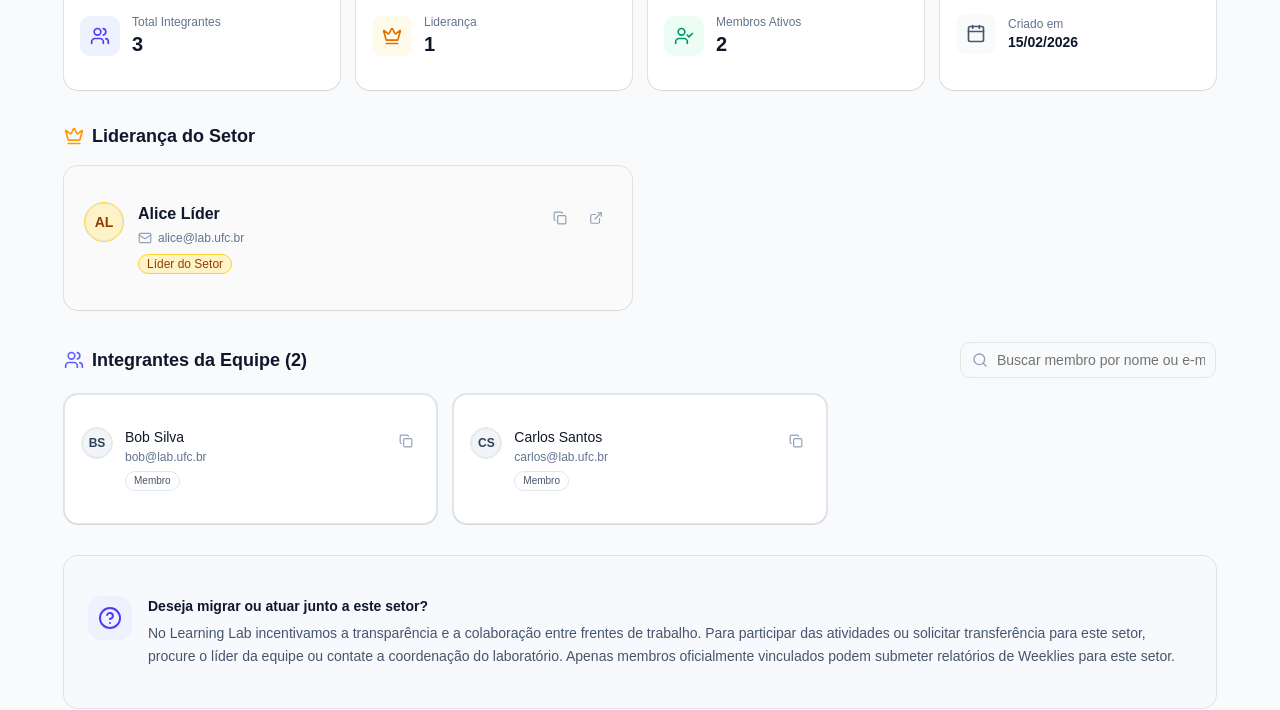
Test: SectorDetailPage › permite buscar integrantes por nome ou e-mail
The image size is (1280, 710).
(page scrolled)
Expected: the text "Bob Silva" is shown, [125, 427, 184, 447]
Note: Filtra por "Carlos"
Type "carlos" into the field with placeholder "Buscar membro por nome ou e-mail..." at (1088,360), box [960, 342, 1216, 378]
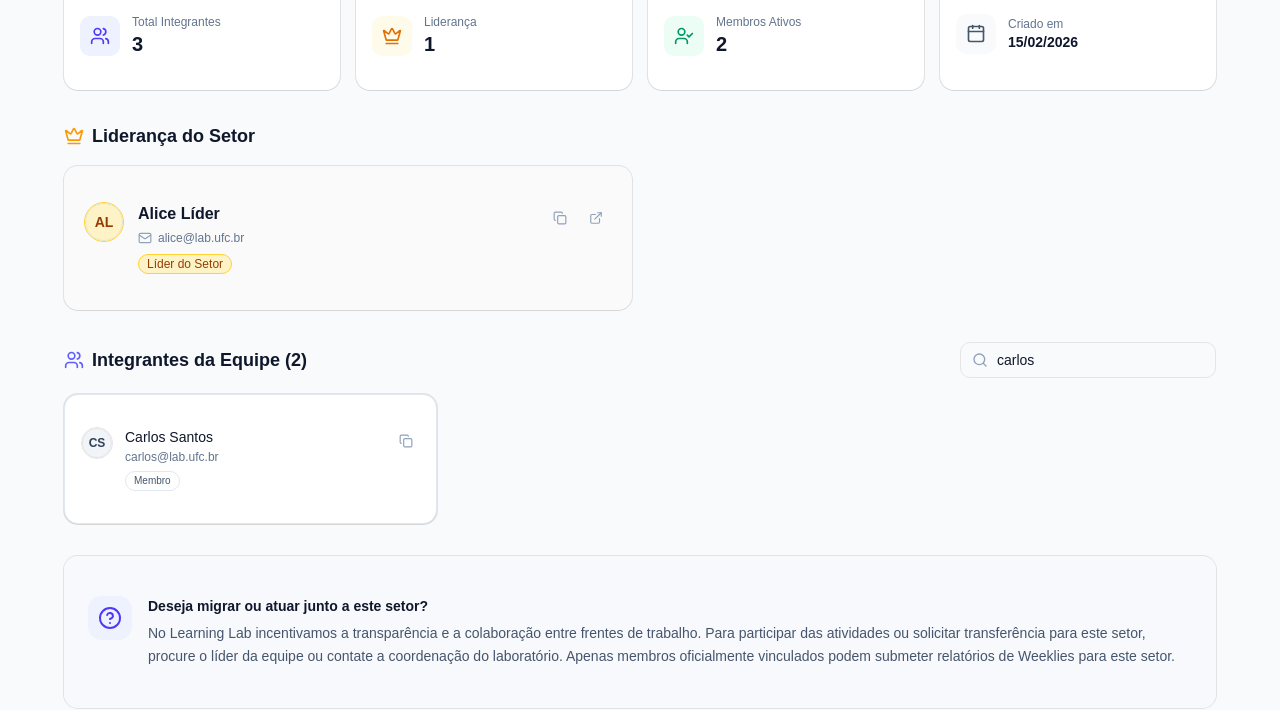
Expected: the text "Carlos Santos" is shown, [125, 427, 213, 447]
Expected: the text "Bob Silva" is gone
Note: Filtra por termo sem correspondência
Replace the text in the field with placeholder "Buscar membro por nome ou e-mail..." with "inexistente" at (1088,360), box [960, 342, 1216, 378]
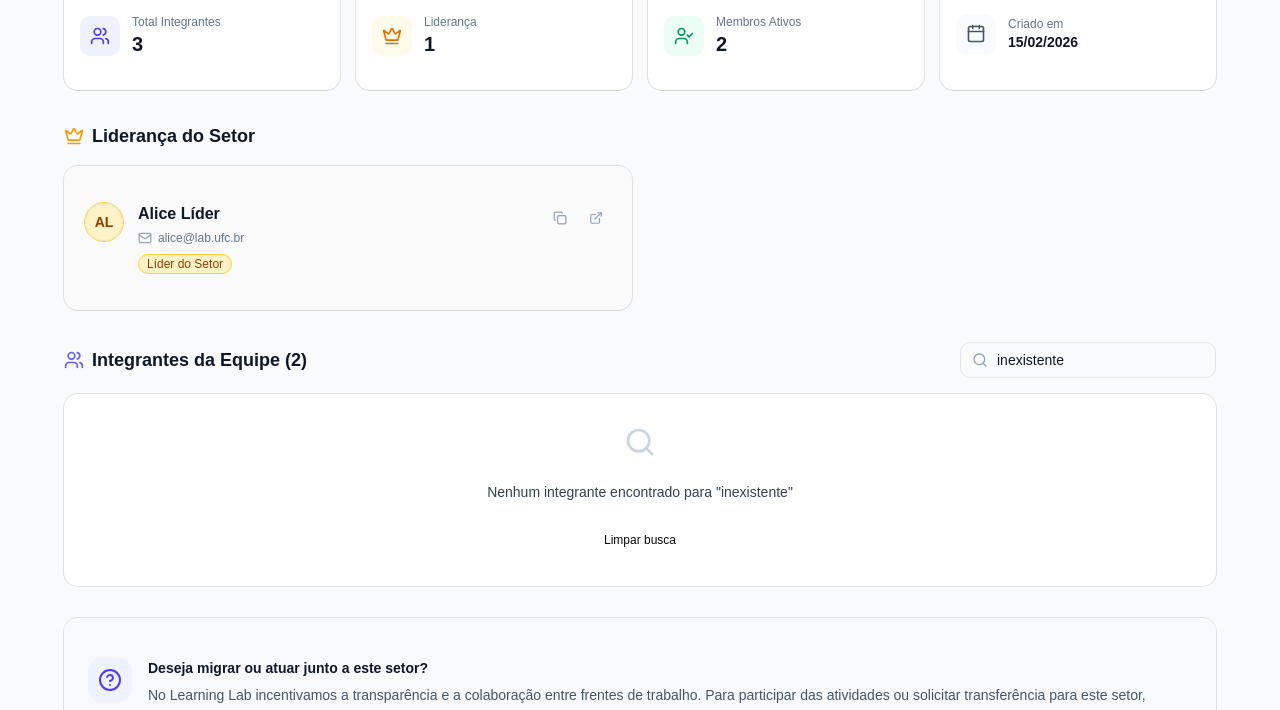
Expected: the text "Nenhum integrante encontrado para \"inexistente\"" is shown, [487, 484, 793, 500]
